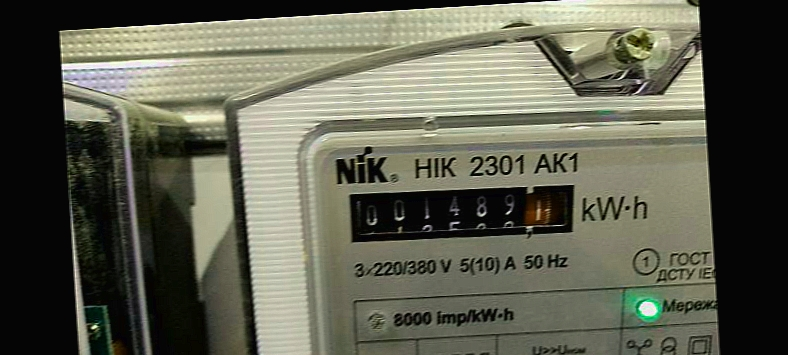0: (387, 192, 405, 218), (361, 197, 377, 223)
1: (416, 189, 432, 219), (528, 189, 542, 219)
4: (443, 188, 461, 215)
8: (469, 187, 488, 215)
9: (498, 187, 515, 213)
screen: (330, 165, 591, 256)
